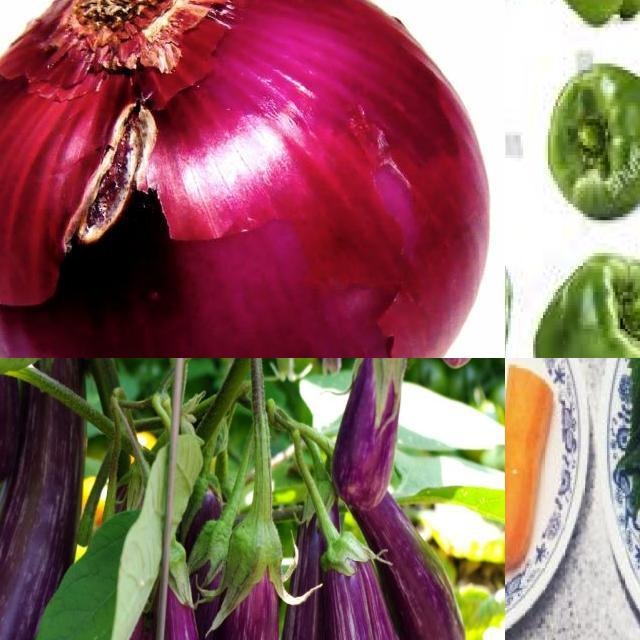bell_pepper: (539, 50, 640, 246), (534, 244, 640, 359)
carrot: (506, 362, 558, 579)
eggplant: (1, 359, 90, 640), (352, 479, 469, 640), (333, 359, 407, 510), (216, 508, 289, 640), (314, 526, 389, 640), (143, 532, 218, 640)
onion: (1, 1, 499, 359)
